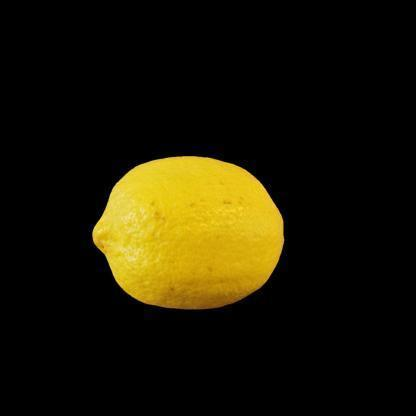lemon: (92, 155, 285, 310)
